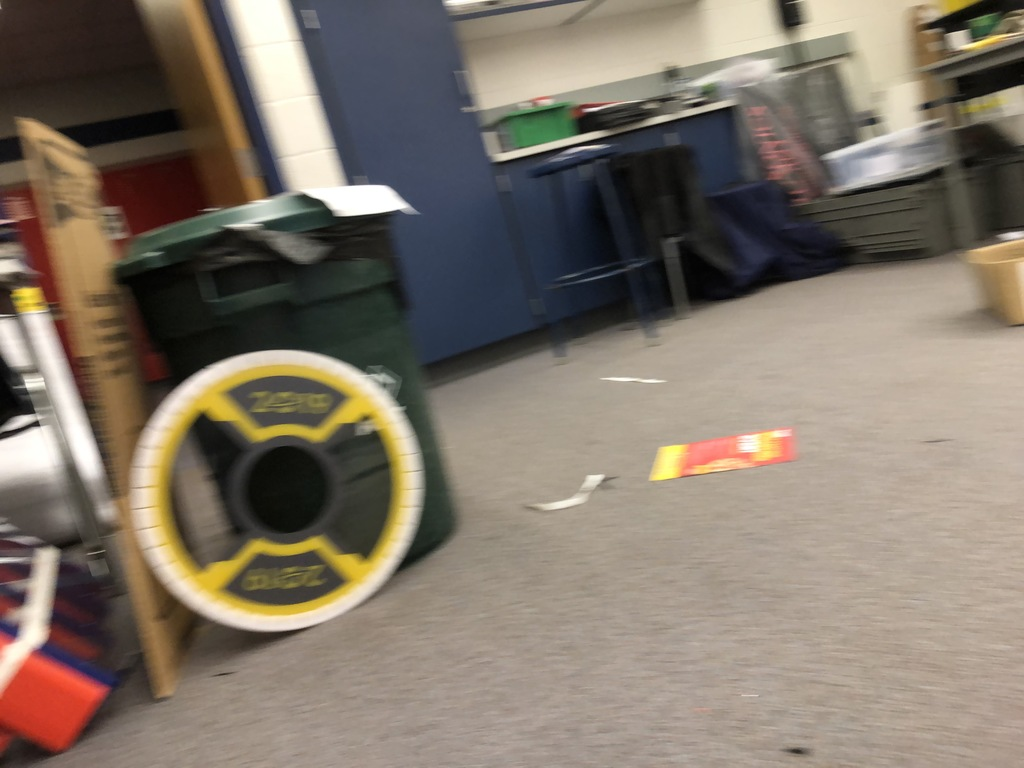hatch_panel: (120, 344, 438, 638)
